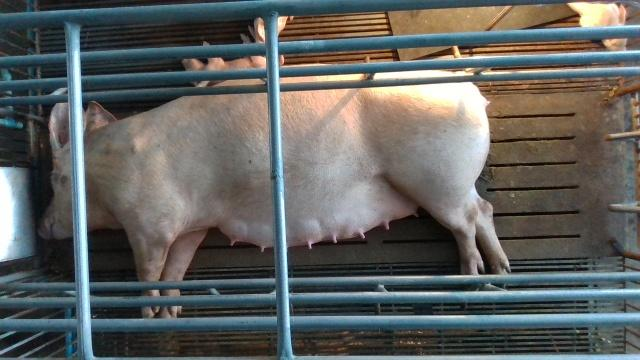piglet: (183, 22, 288, 87), (562, 0, 631, 55)
sow-sleep-lactate: (35, 64, 512, 320)
